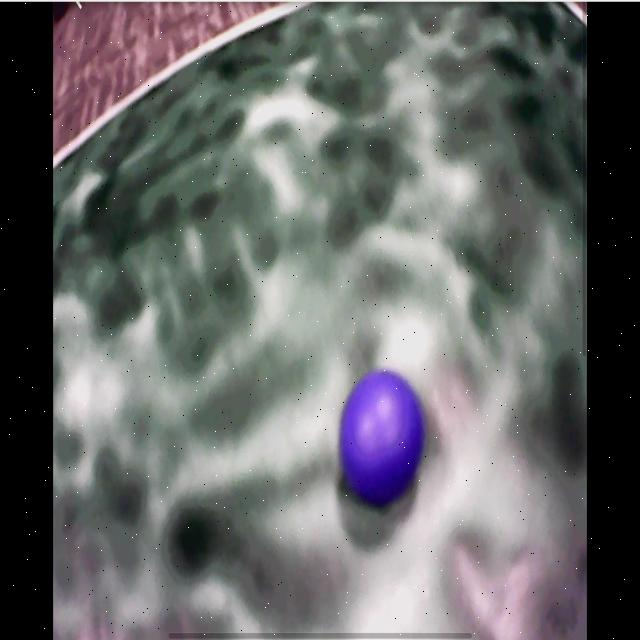ball: (342, 372, 425, 498)
